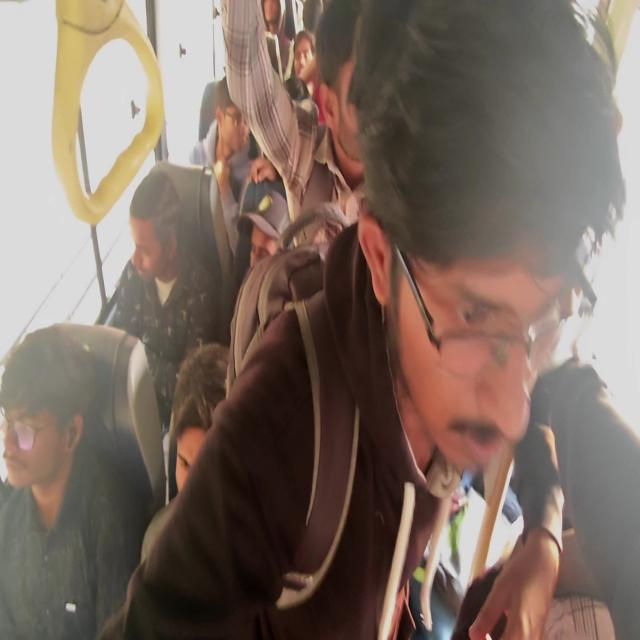person: (102, 0, 627, 638), (463, 356, 639, 638), (0, 324, 134, 638), (218, 0, 366, 252), (108, 169, 220, 434), (139, 341, 230, 565), (189, 74, 253, 260), (167, 341, 230, 501)
